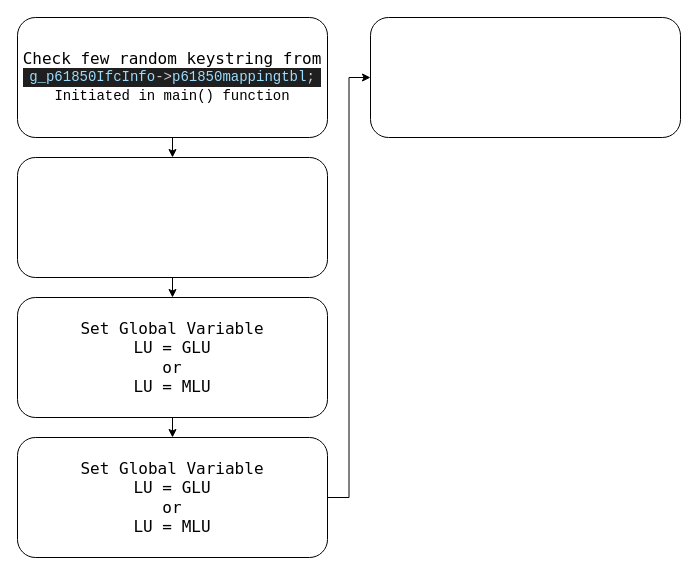
Some shapes in this 698 by 575 pixel diagram are drawn without their labels. Each missing label, with the box of its shape:
check *GLU/* or *MLU/* in g_p61850MappingTbl [ 5 ]. ps8leafname: (16, 156, 328, 278)
Collect all the leaf list to the associated class arrays.: (370, 16, 680, 138)
